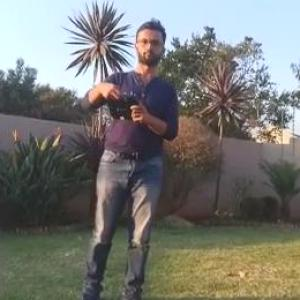follow: (68, 11, 182, 299)
